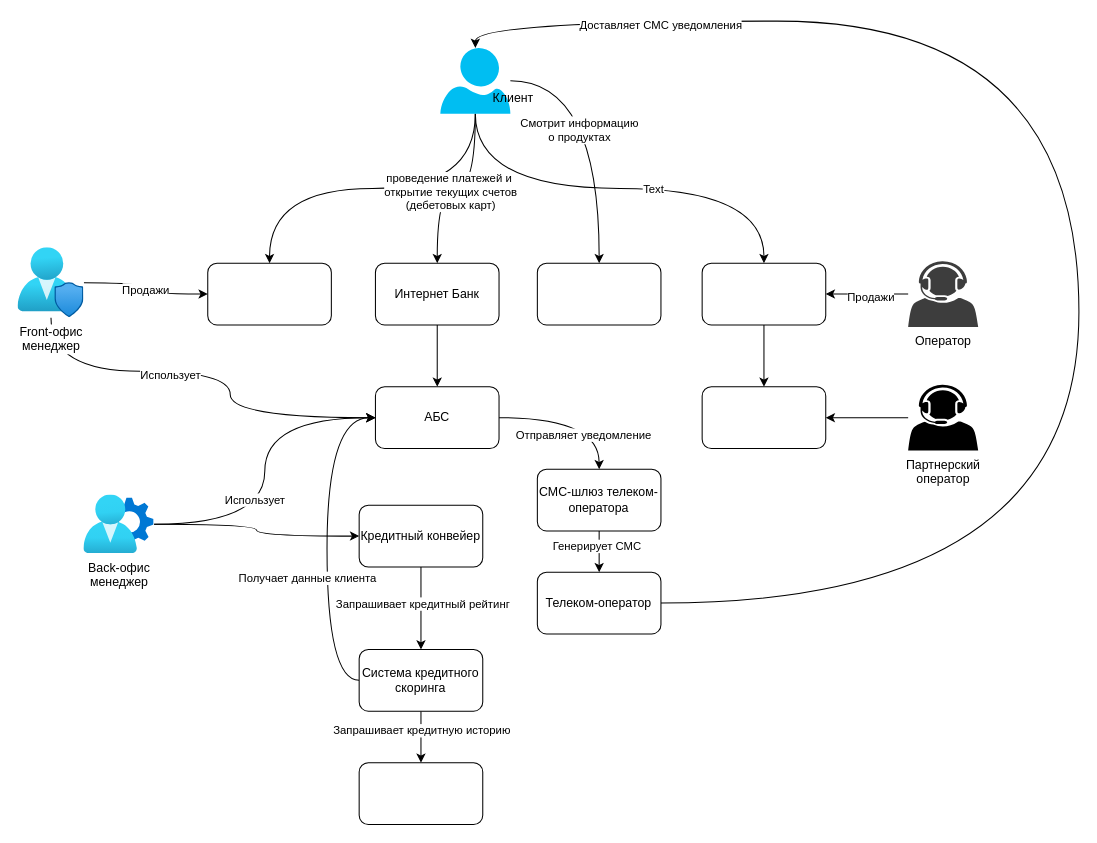
The diagram is 1097 pixels wide and 843 high, and some of its shapes have lost their labels. Here are the shapes that lost their labels. From the top down, the centre of each, then its label:
At (269,293): "Отделение Банка".
At (598,293): "Сайт".
At (763,293): "Call-центр".
At (763,417): "Партнерский call-центр".
At (420,793): "Бюро кредитных историй".
